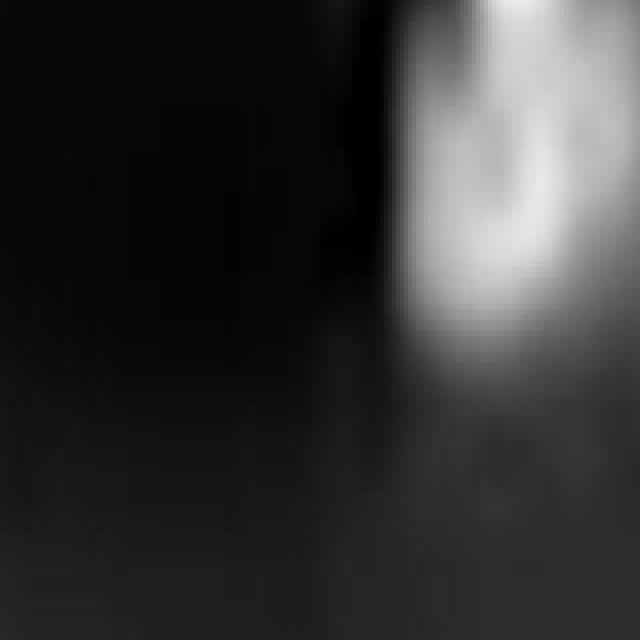person: (381, 1, 640, 470)
